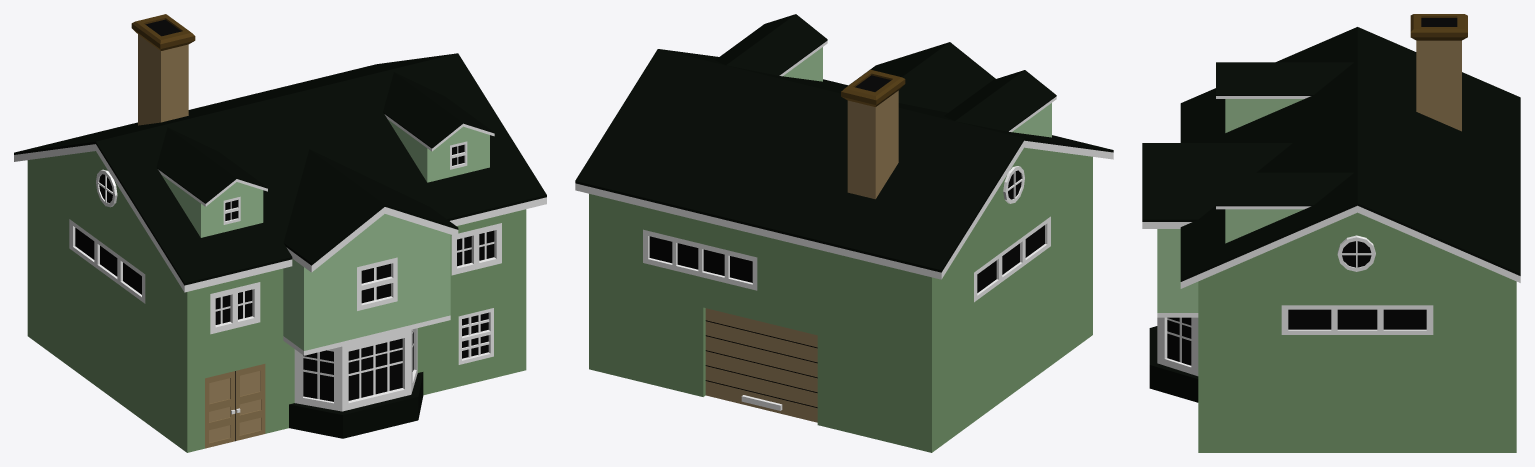
The model's file is House-21.fbx.
3 renders of one model, left to right at view 1: azimuth 30°, elevation 25°; view 2: azimuth 150°, elevation 25°; view 3: azimuth 270°, elevation 25°, orthographic.
Parts seen in each view (by area): view 1: Cube; view 2: Cube; view 3: Cube.
Boxes of the visible parts, x1,y1,x2,y2 form: Cube: (14, 14, 546, 452); Cube: (575, 14, 1113, 452); Cube: (1142, 14, 1520, 452).
Size of what is drawn, in the model's own units: 12.82 by 10.62 by 11.62.
